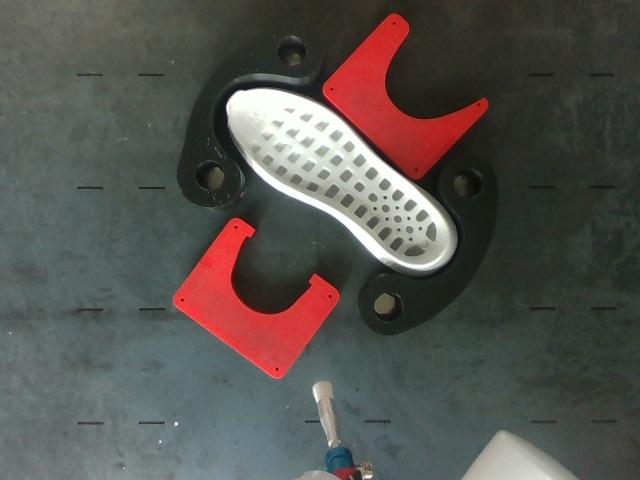shoes: (227, 90, 450, 267)
